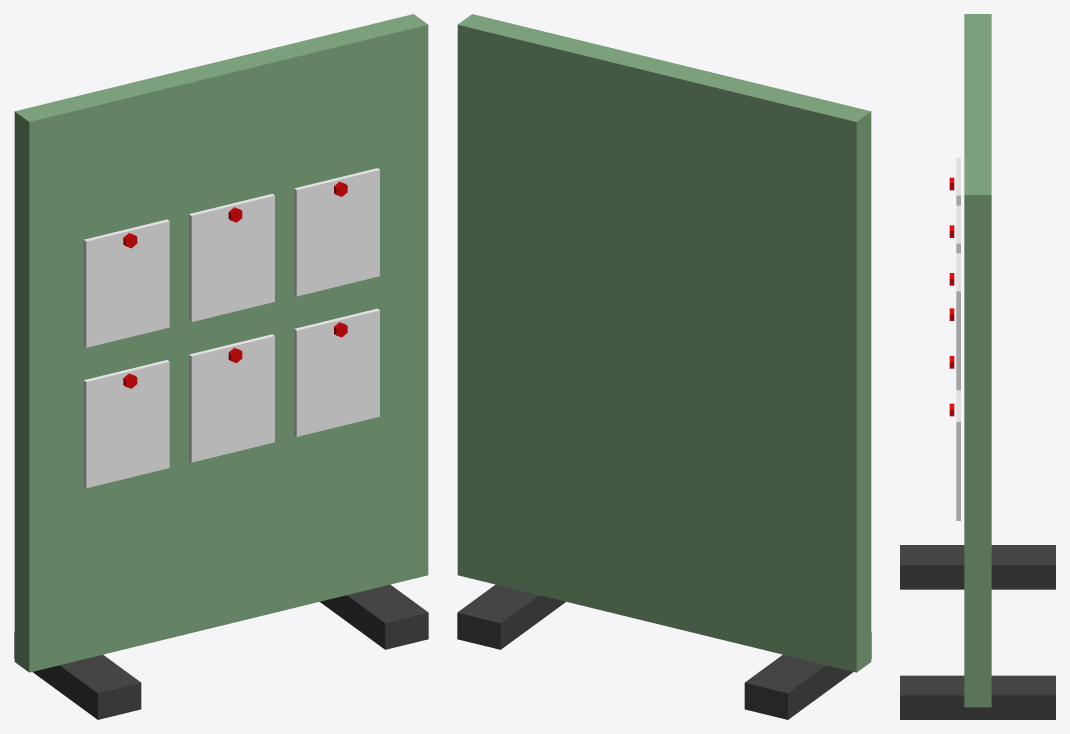
3 views of the same model, side by side, from view 1: azimuth 30°, elevation 25°; view 2: azimuth 150°, elevation 25°; view 3: azimuth 270°, elevation 25° (orthographic). The views are drawn at different scales.
Visible parts, largest first — view 1: Panel, Notice paper, Notice paper.003, Notice paper.001, Notice paper.004, Notice paper.002, Notice paper.005, Panel foot, Panel foot.001; view 2: Panel, Panel foot, Panel foot.001; view 3: Panel, Panel foot.001, Panel foot, Notice paper.005, Notice paper.002.
Part boxes in pixels (<box>): Panel: <box>14,14,428,672</box>; Notice paper: <box>83,360,169,488</box>; Notice paper.003: <box>83,219,169,347</box>; Notice paper.001: <box>189,334,274,462</box>; Notice paper.004: <box>189,193,274,321</box>; Notice paper.002: <box>294,308,379,436</box>; Notice paper.005: <box>294,168,379,296</box>; Panel foot: <box>14,632,141,719</box>; Panel foot.001: <box>320,584,428,649</box>; Panel: <box>457,14,871,672</box>; Panel foot: <box>744,632,871,719</box>; Panel foot.001: <box>457,584,565,649</box>; Panel: <box>964,14,991,707</box>; Panel foot.001: <box>900,675,1055,719</box>; Panel foot: <box>900,545,1055,589</box>; Notice paper.005: <box>956,253,960,390</box>; Notice paper.002: <box>956,390,960,520</box>.
Size of the model in its own units: 1.1 by 1.53 by 0.4.
1 material, 1 textured.
